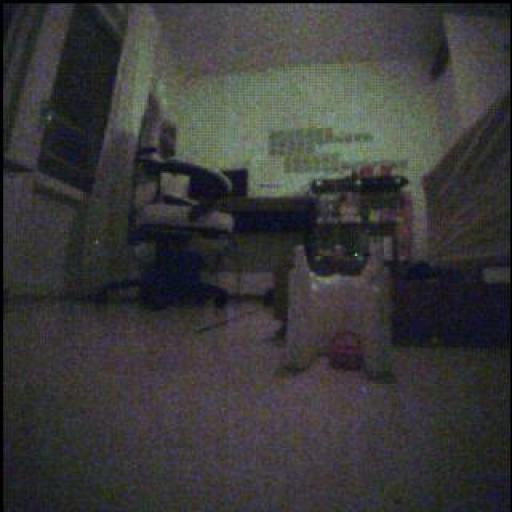basket: (331, 332, 364, 371), (361, 166, 375, 180), (380, 166, 395, 179)
